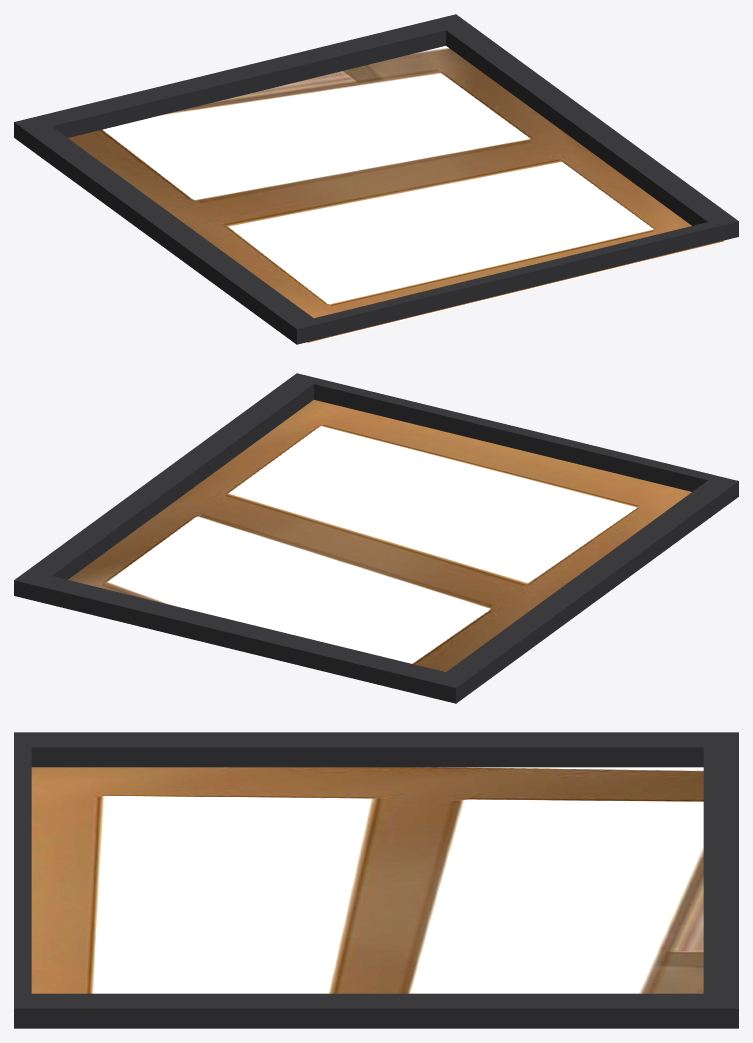
File: ceiling_DD304.glb
3 renders of one model, top to bottom at view 1: azimuth 30°, elevation 25°; view 2: azimuth 150°, elevation 25°; view 3: azimuth 270°, elevation 25°, orthographic. The views are drawn at different scales.
Parts seen in each view (by area): view 1: Ceiling_Shell, Ceiling_Mirror, Ceiling_Panel_R, Ceiling_Panel_L; view 2: Ceiling_Shell, Ceiling_Mirror, Ceiling_Panel_R, Ceiling_Panel_L; view 3: Ceiling_Shell, Ceiling_Mirror, Ceiling_Panel_L, Ceiling_Panel_R.
Boxes of the visible parts, box(x1,y1,x2,y2) form: Ceiling_Shell: box(14, 14, 738, 344); Ceiling_Mirror: box(173, 76, 592, 310); Ceiling_Panel_R: box(322, 46, 726, 273); Ceiling_Panel_L: box(68, 112, 442, 343); Ceiling_Shell: box(14, 373, 738, 703); Ceiling_Mirror: box(192, 430, 586, 646); Ceiling_Panel_R: box(68, 400, 437, 609); Ceiling_Panel_L: box(341, 466, 691, 671); Ceiling_Shell: box(14, 732, 738, 1028); Ceiling_Mirror: box(31, 845, 703, 939); Ceiling_Panel_L: box(31, 767, 703, 845); Ceiling_Panel_R: box(31, 939, 703, 993).
Size of the model in its own units: 1.48 by 0.056 by 1.64.
Materials: 3 (1 with a texture image).
